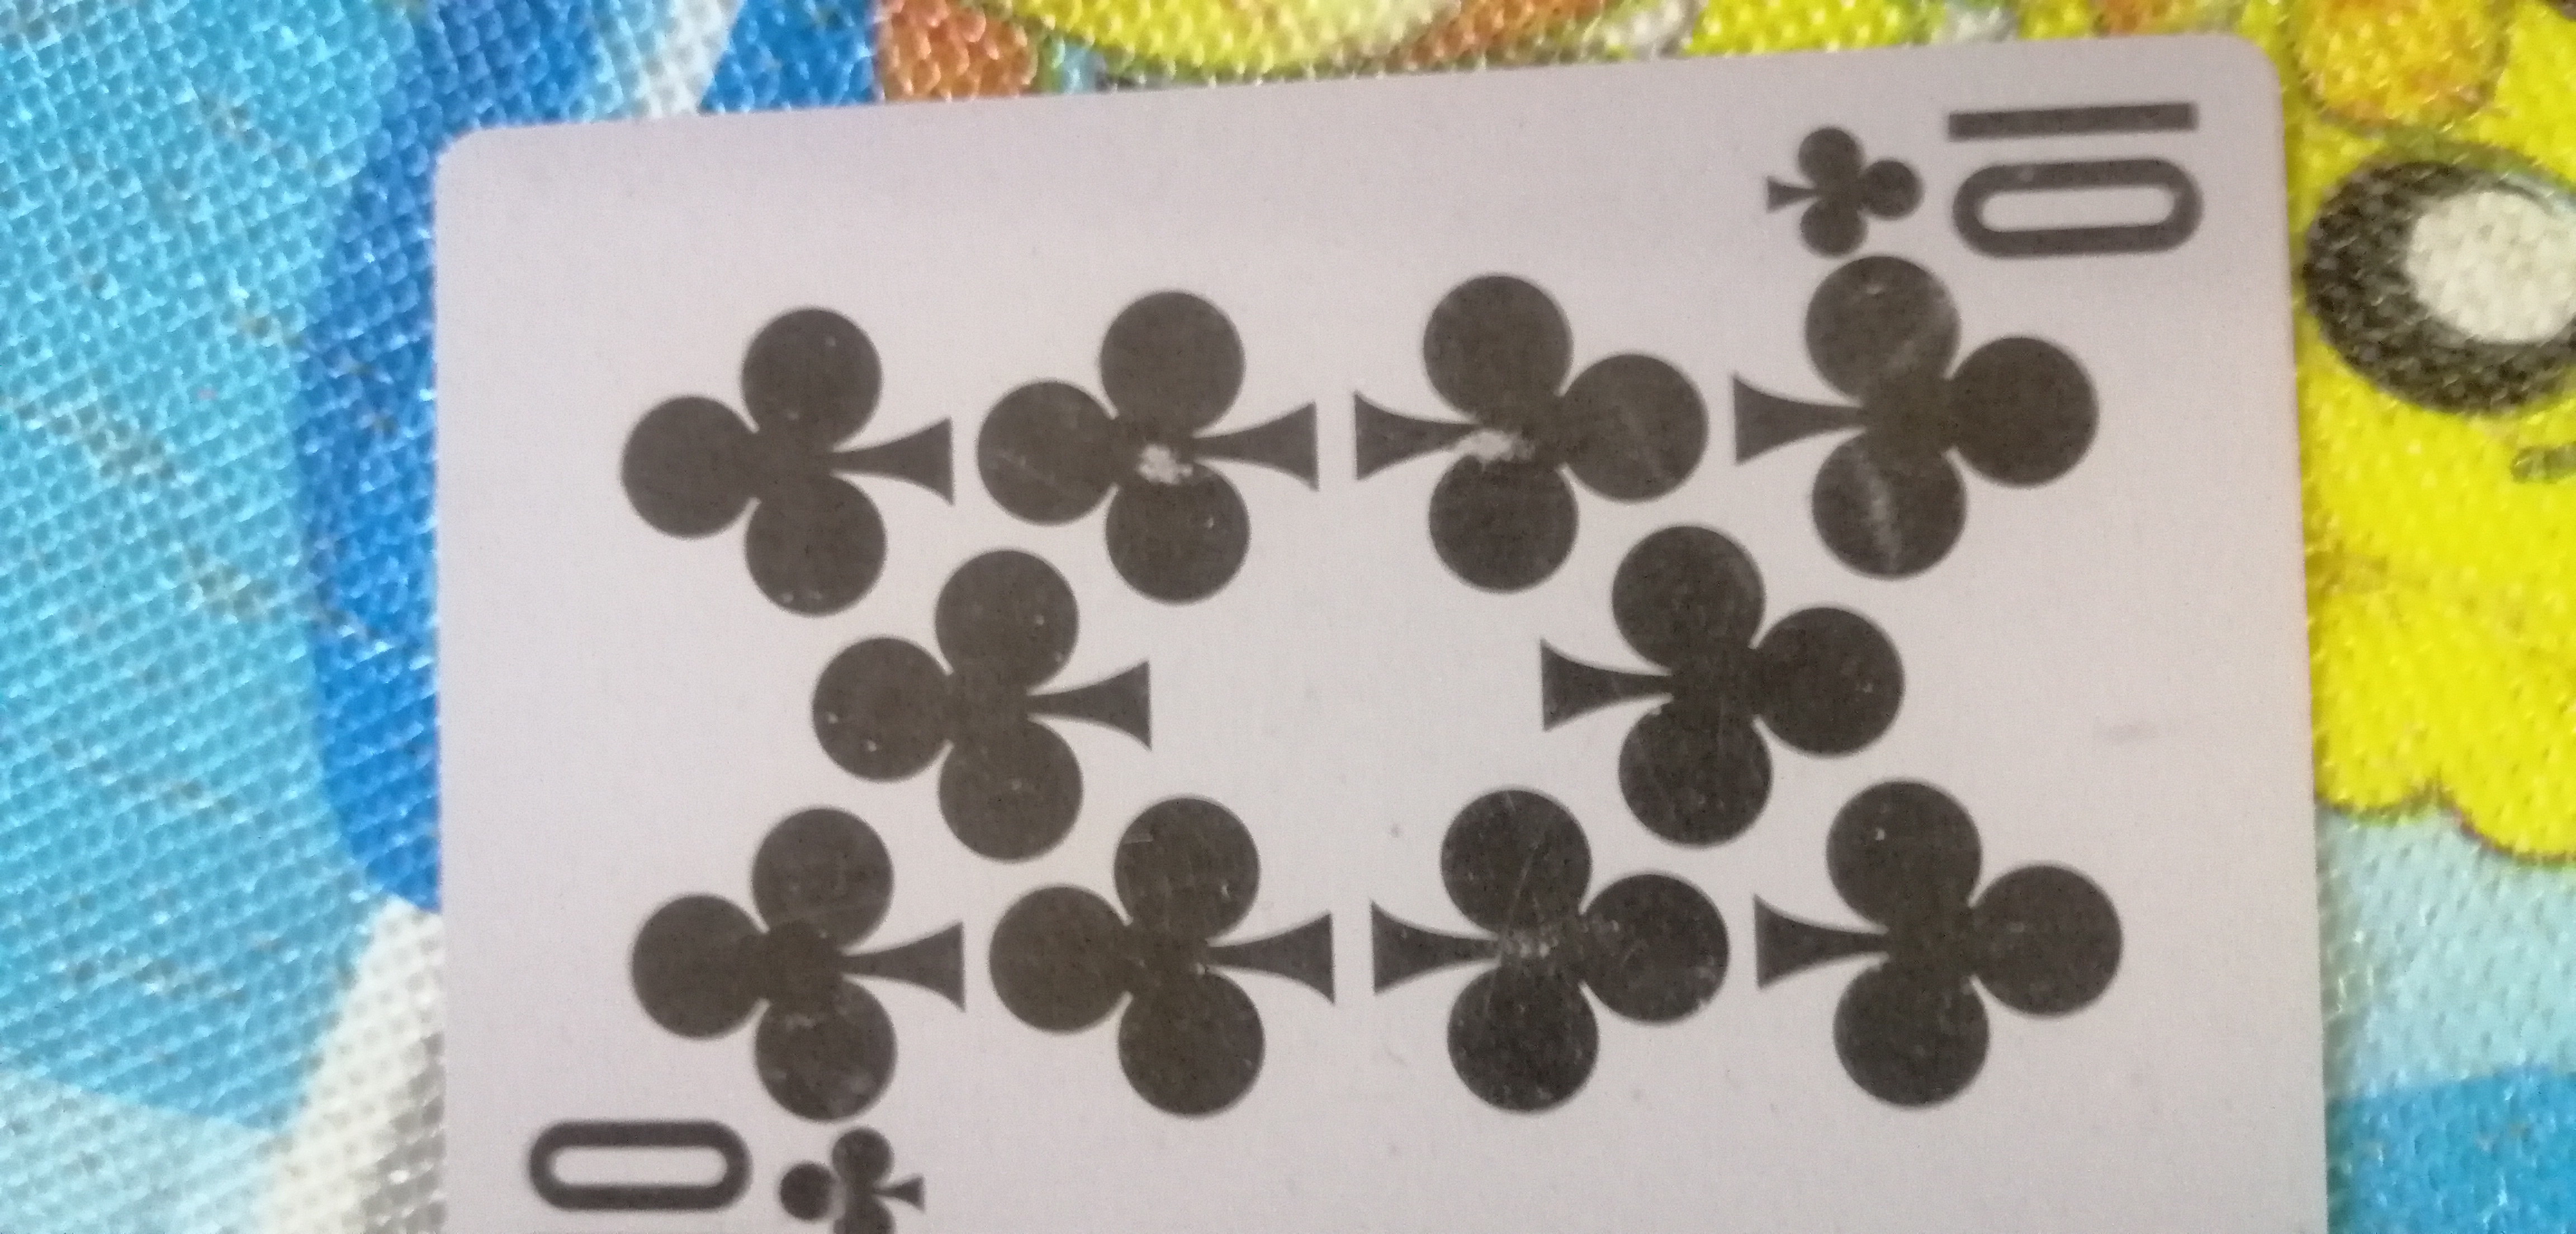ten: (379, 81, 2331, 1234)
